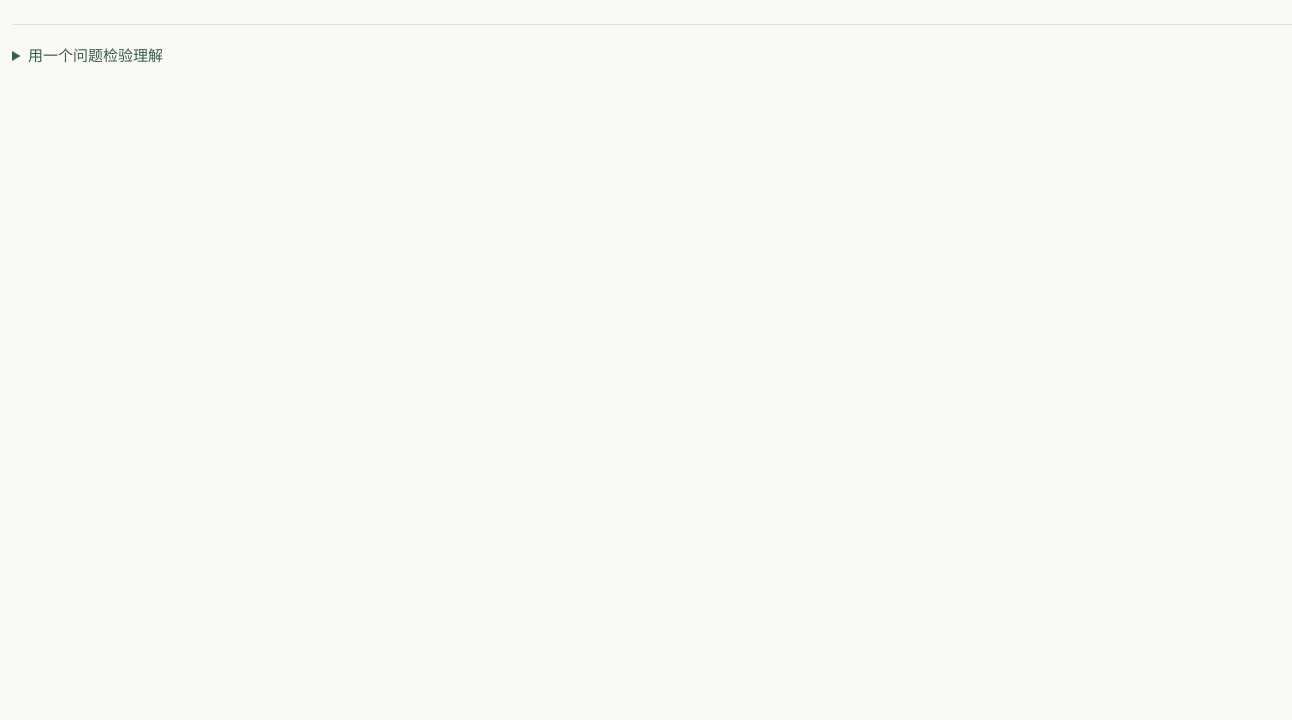
Test: checks load on request and save the selected answer with its context
Later steps or results of the test are not shown.
Click the heading "用一个问题检验理解". click: coordinates (95, 55)
box: left=28, top=45, right=163, bottom=65
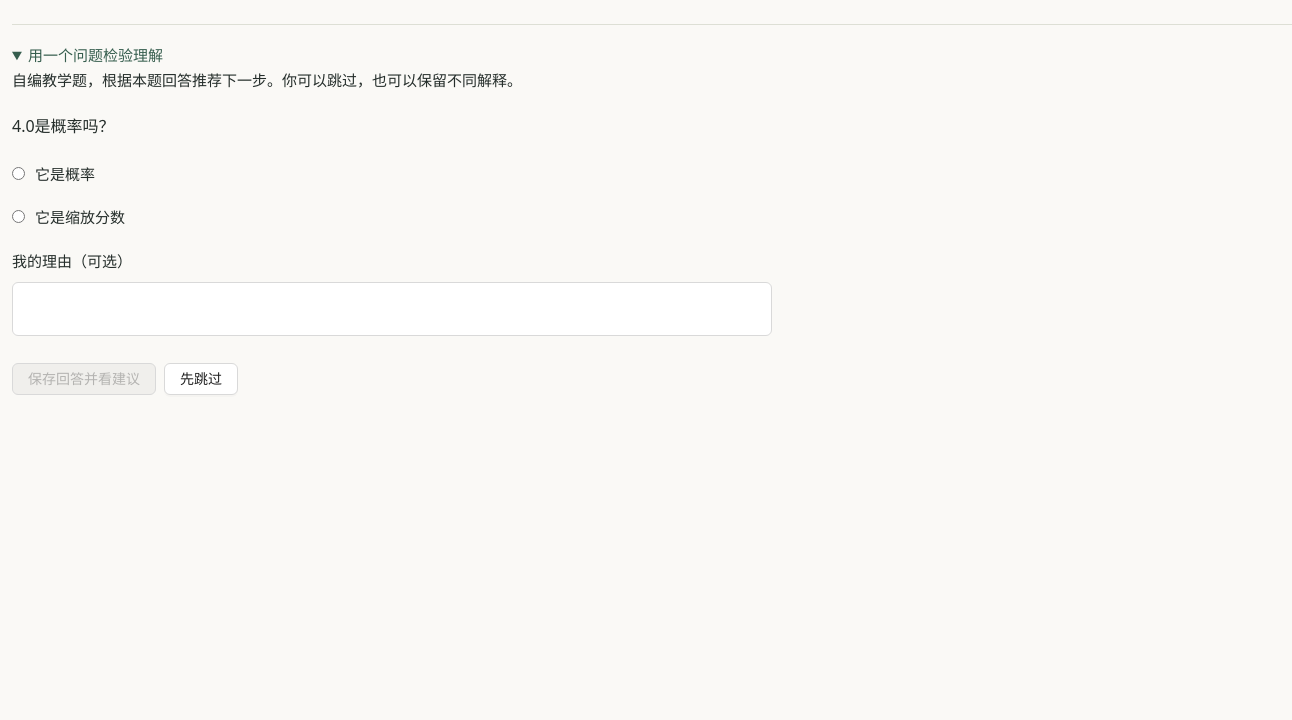
Click the radio button labelled "它是概率". click: coordinates (18, 173)
box: left=12, top=167, right=25, bottom=180
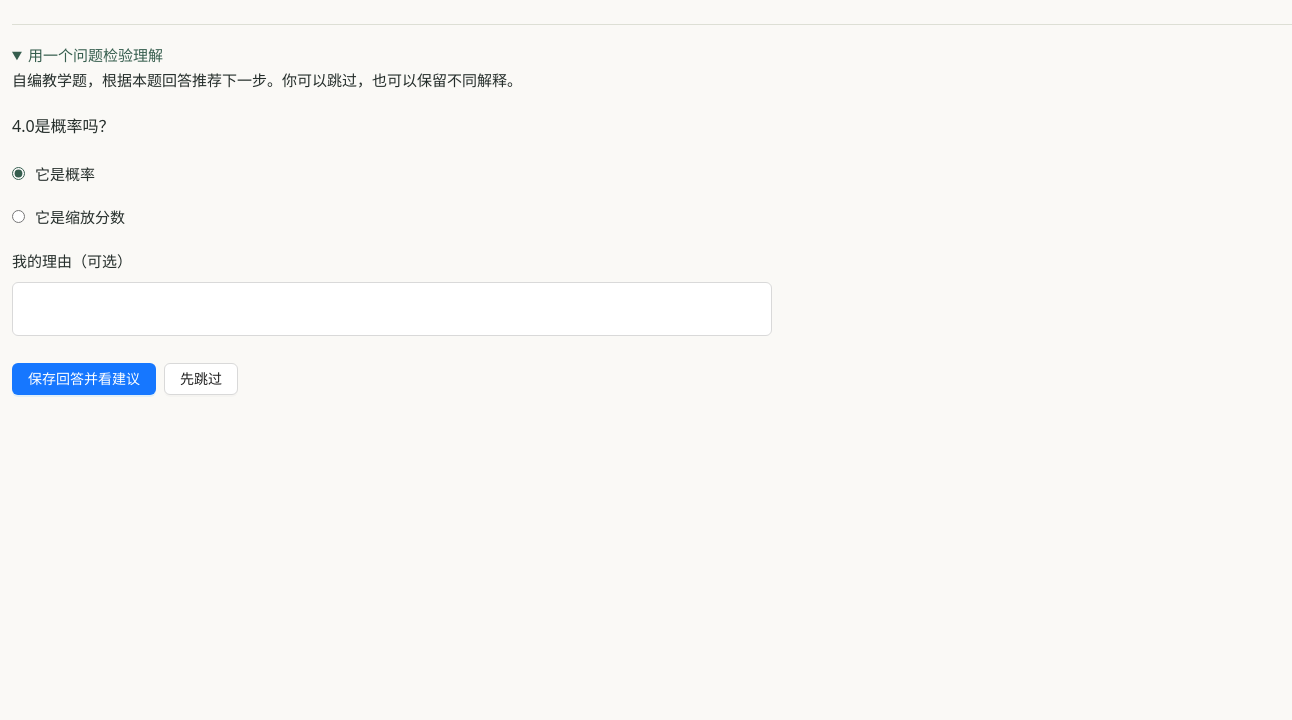
Type "我的理由" into the text box named "教学检查我的理由". click: coordinates (392, 309)
box: left=12, top=282, right=772, bottom=336
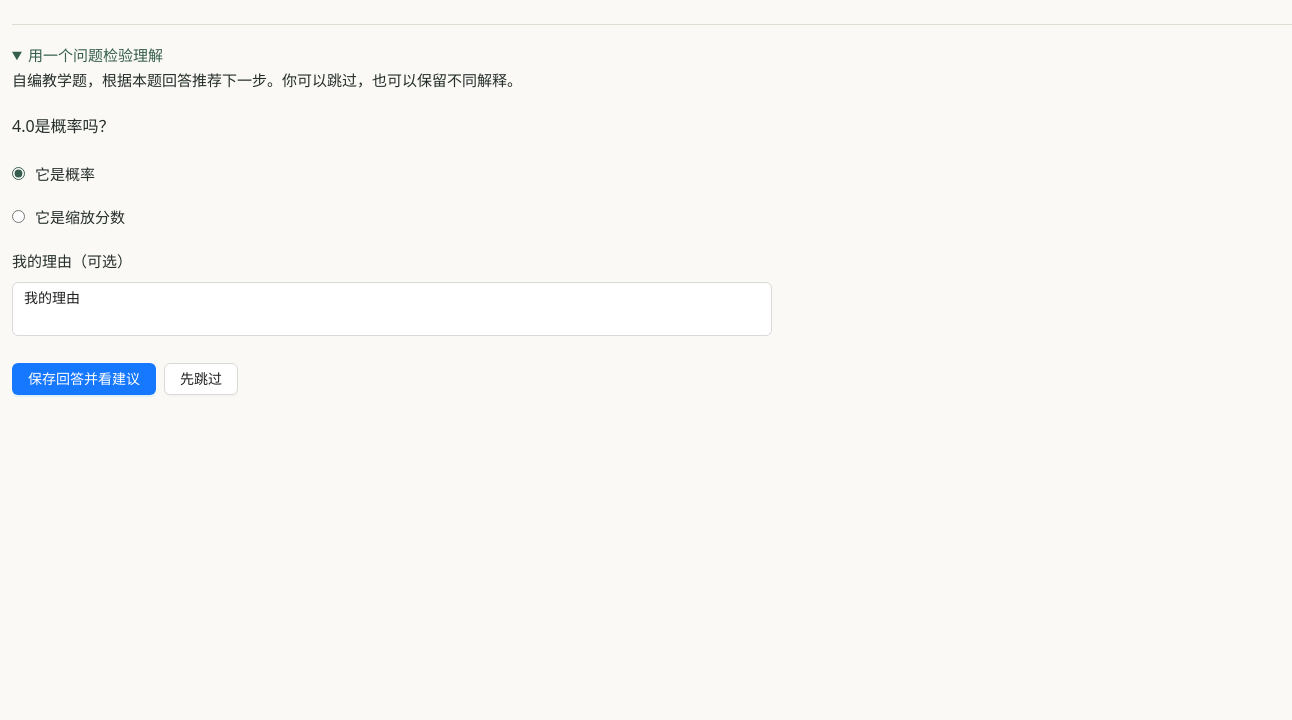
Click the button "保存回答并看建议". click: coordinates (84, 379)
box: left=12, top=363, right=156, bottom=395
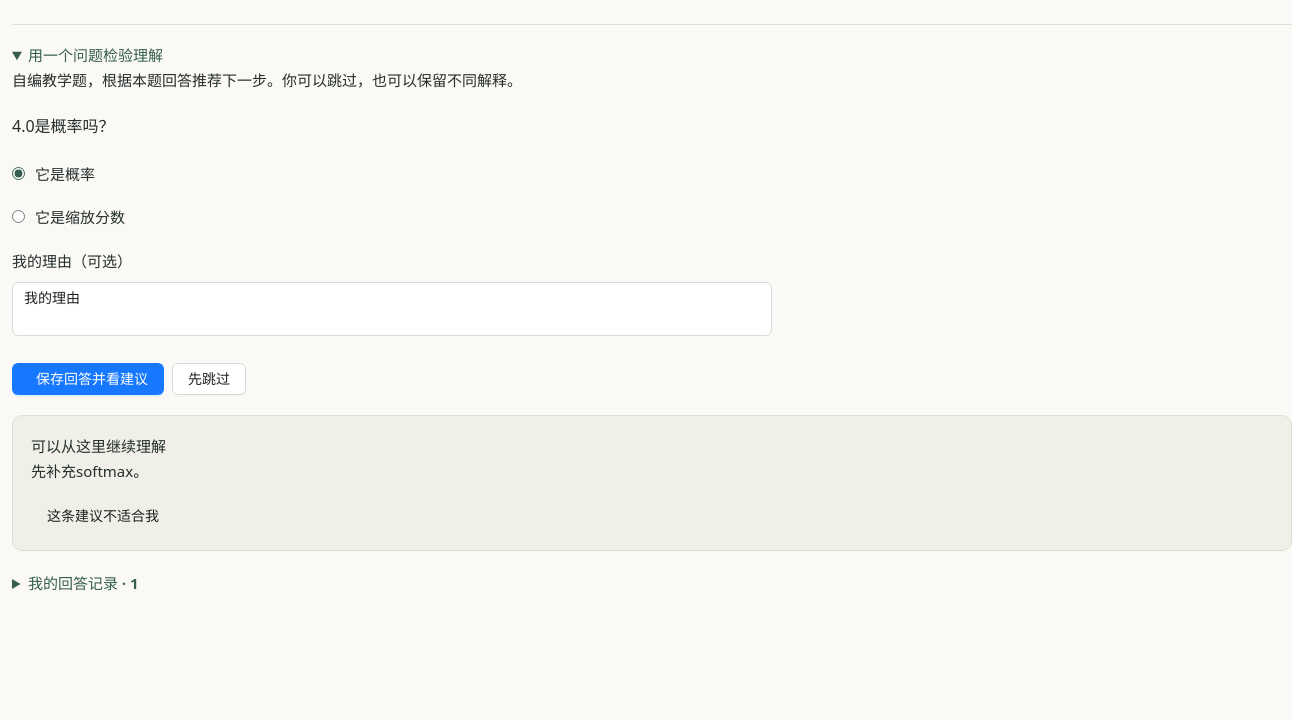
Expected: the text "可以从这里继续理解" is shown, left=31, top=436, right=166, bottom=456
